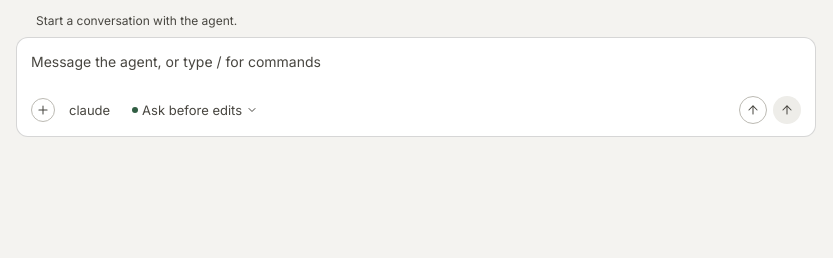
AgentChatSurface › shows the current mode on the chip and lists every mode by name, description off the text
Click the button with test id "mode-chip" at (195,110), box [124, 94, 266, 126]
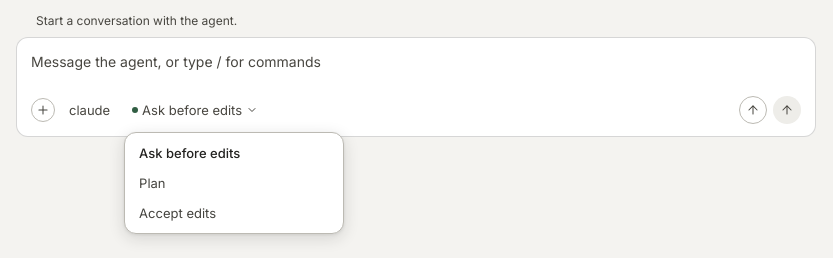
Expected: the number of options is 3, [131, 139, 337, 167]; [131, 169, 337, 197]; [131, 199, 337, 227]
Expected: the list named "Session mode" shows "Plan", [131, 169, 337, 197]
Expected: the list named "Session mode" shows "Accept edits", [131, 199, 337, 227]
